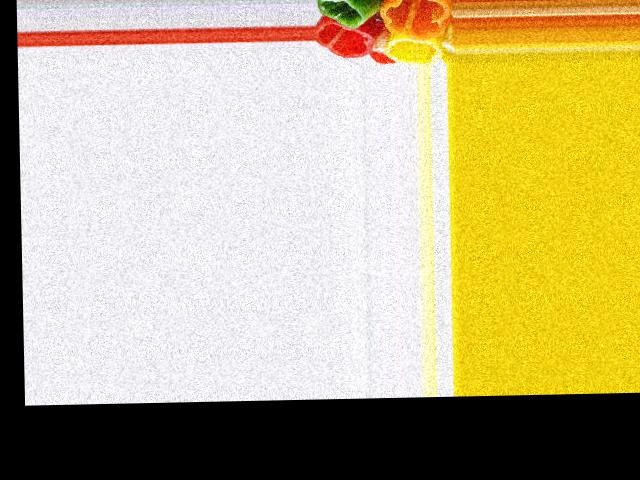bell_pepper: (318, 22, 374, 60)
